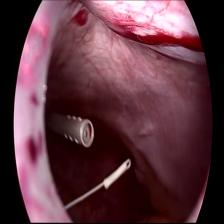Irrigator: (48, 107, 95, 149)
